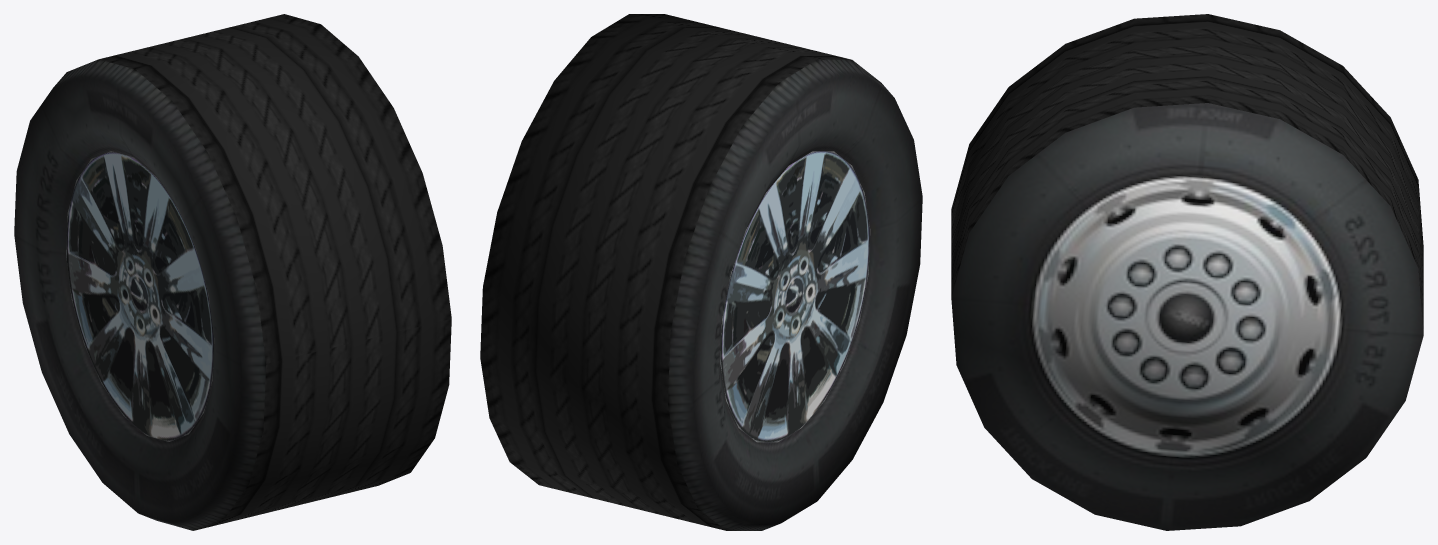
Rendered from wheel_supark.FBX.
3 views of the same model, side by side, from view 1: azimuth 30°, elevation 25°; view 2: azimuth 150°, elevation 25°; view 3: azimuth 270°, elevation 25° (orthographic). The views are drawn at different scales.
Parts seen in each view (by area): view 1: supark_wheel; view 2: supark_wheel; view 3: supark_wheel.
Part boxes in pixels (box(x1,y1,x2,y2)): supark_wheel: box(14, 14, 451, 530); supark_wheel: box(480, 14, 922, 530); supark_wheel: box(951, 14, 1423, 530).
Bounding box in the file's own units: 0.6925 × 1.42 × 1.42.
